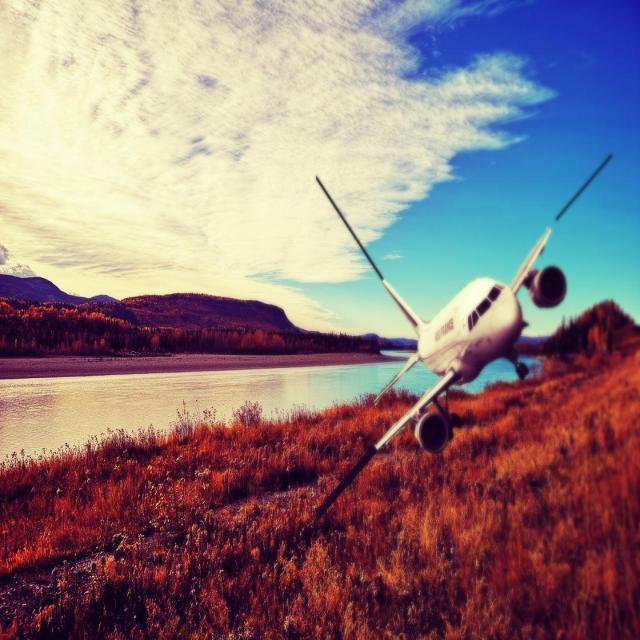airplane: (316, 155, 612, 508)
